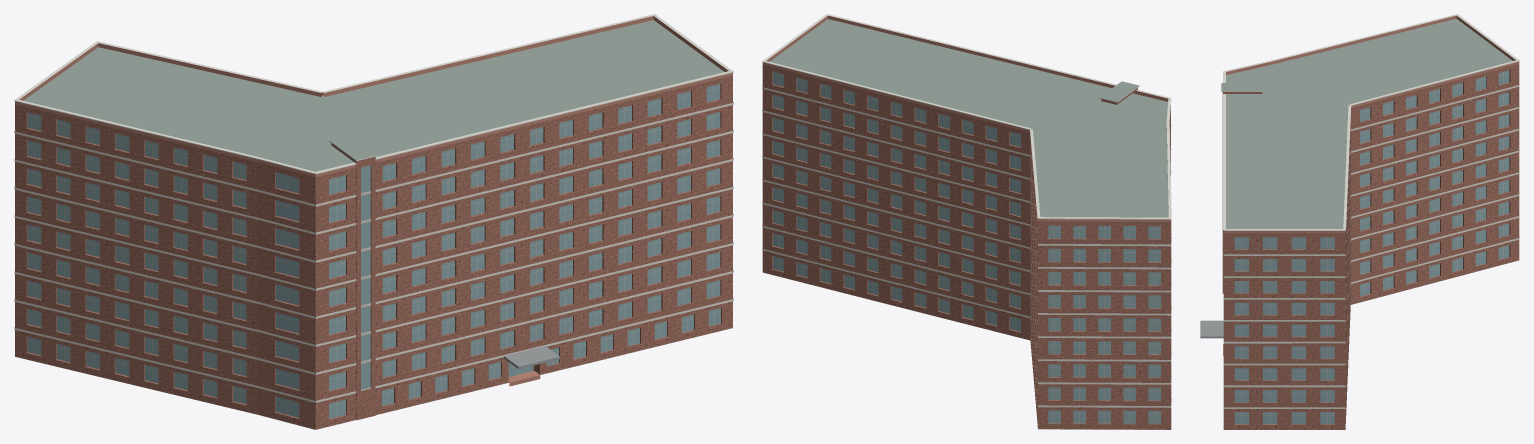
The picture shows the model from 3 angles, left to right: view 1: azimuth 30°, elevation 25°; view 2: azimuth 150°, elevation 25°; view 3: azimuth 270°, elevation 25°; orthographic projection. The views are drawn at different scales.
Parts seen in each view (by area): view 1: international__wall, international__glass, international__roof, international__trim, international__frame, international__parapet, international__canopy; view 2: international__wall, international__roof, international__glass, international__trim, international__frame, international__parapet; view 3: international__wall, international__roof, international__glass, international__trim, international__frame, international__parapet, international__canopy.
Part boxes in pixels (x1=…): international__wall: x1=15, y1=75, x2=732, y2=429; international__glass: x1=27, y1=84, x2=720, y2=418; international__roof: x1=15, y1=20, x2=732, y2=429; international__trim: x1=14, y1=14, x2=733, y2=402; international__frame: x1=27, y1=86, x2=720, y2=416; international__parapet: x1=15, y1=16, x2=732, y2=177; international__canopy: x1=503, y1=346, x2=559, y2=368; international__wall: x1=762, y1=65, x2=1171, y2=429; international__roof: x1=769, y1=19, x2=1168, y2=429; international__glass: x1=773, y1=71, x2=1160, y2=423; international__trim: x1=762, y1=14, x2=1171, y2=407; international__frame: x1=773, y1=73, x2=1160, y2=423; international__parapet: x1=762, y1=15, x2=1171, y2=221; international__wall: x1=1222, y1=64, x2=1519, y2=429; international__roof: x1=1221, y1=18, x2=1517, y2=304; international__glass: x1=1234, y1=70, x2=1509, y2=423; international__trim: x1=1221, y1=14, x2=1519, y2=408; international__frame: x1=1234, y1=72, x2=1509, y2=424; international__parapet: x1=1223, y1=15, x2=1519, y2=233; international__canopy: x1=1200, y1=320, x2=1223, y2=338.
Bounding box in the file's own units: 65.85 × 29.25 × 41.1.
9 materials, 1 textured.
